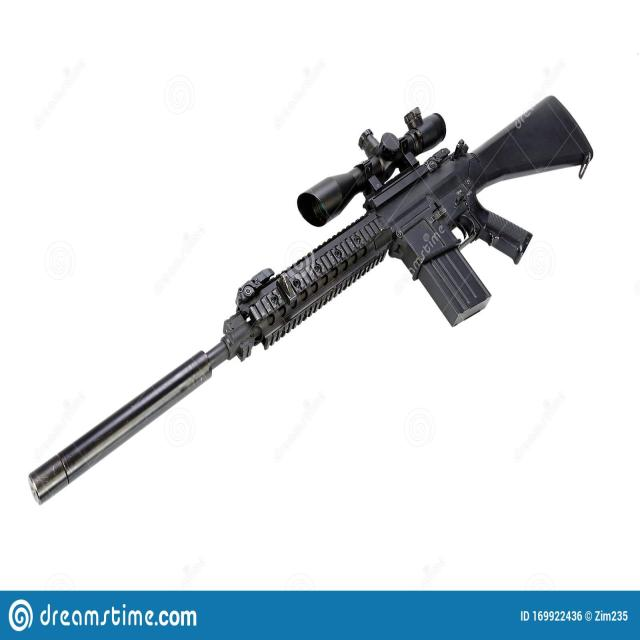Rifle: (30, 95, 595, 505)
